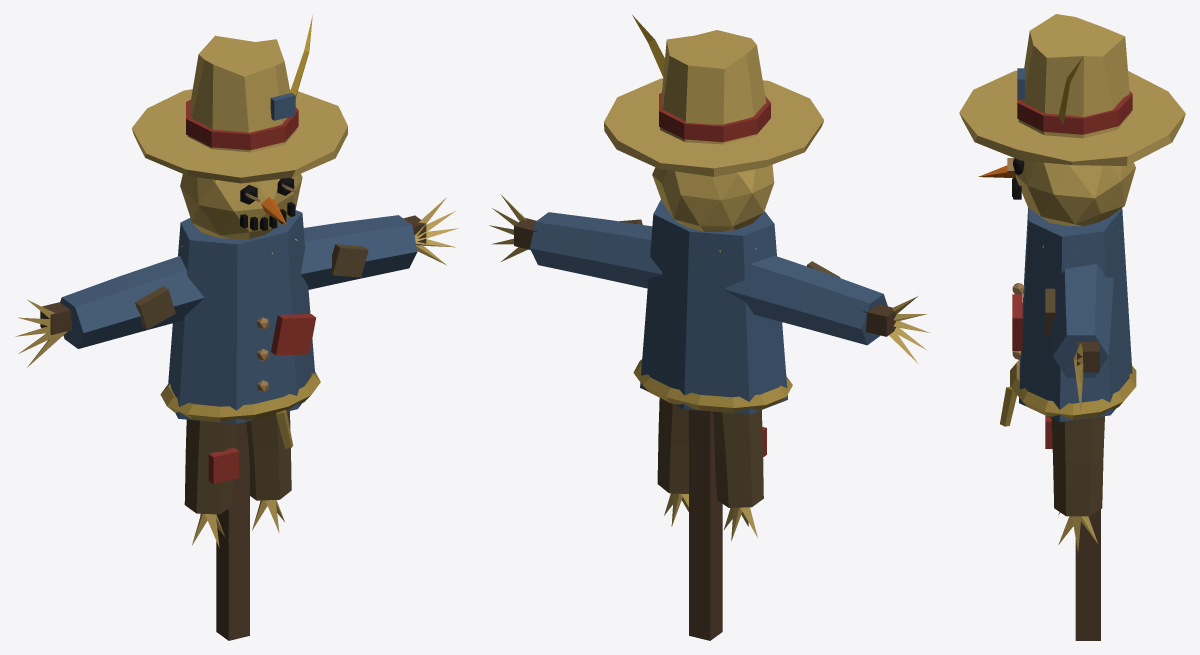
File: scarecrow.glb
3 renders of one model, left to right at view 1: azimuth 30°, elevation 25°; view 2: azimuth 150°, elevation 25°; view 3: azimuth 270°, elevation 25°, orthographic. The views are drawn at different scales.
Parts seen in each view (by area): view 1: scarecrow, Hat; view 2: scarecrow, Hat; view 3: scarecrow, Hat.
Boxes of the visible parts, x1=… form: scarecrow: x1=15, y1=173, x2=458, y2=640; Hat: x1=132, y1=15, x2=347, y2=183; scarecrow: x1=489, y1=164, x2=929, y2=640; Hat: x1=604, y1=15, x2=823, y2=176; scarecrow: x1=978, y1=158, x2=1136, y2=640; Hat: x1=959, y1=14, x2=1185, y2=165.
Bounding box in the file's own units: 2.08 × 2.69 × 0.895.
